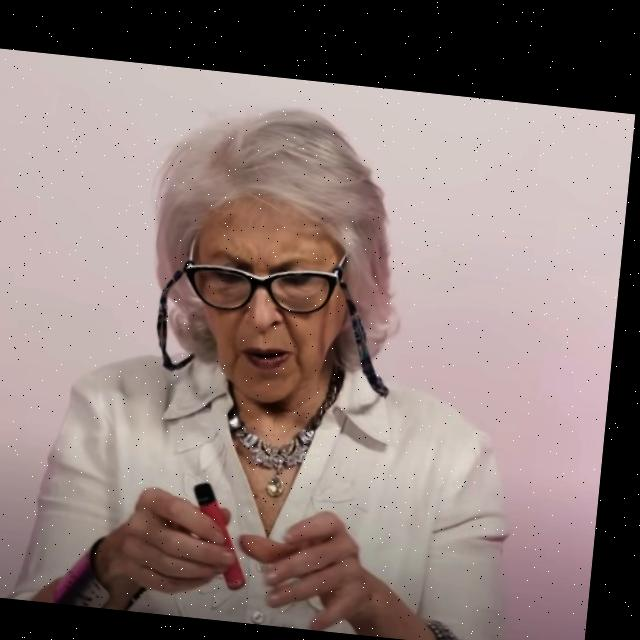vape: (196, 476, 265, 586)
